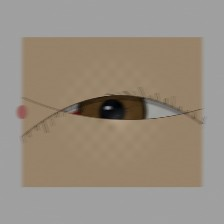hemorrhage_spot: (35, 88, 129, 163)
